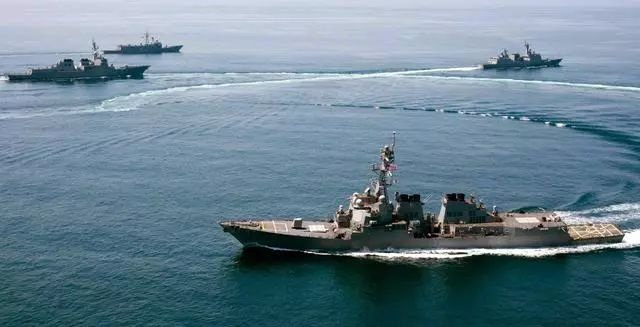warship: (217, 138, 633, 262), (3, 40, 148, 82), (480, 37, 560, 71), (105, 31, 185, 55)
